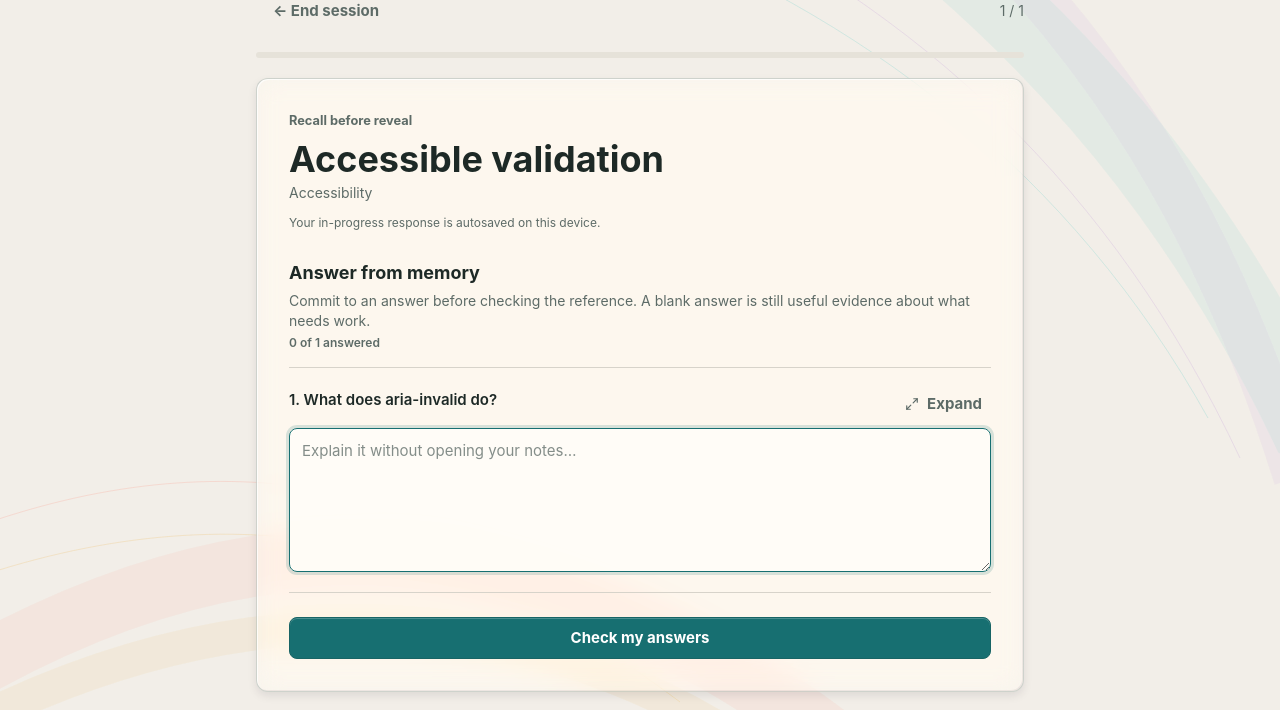
ReviewSession structured recall › keeps references hidden, then submits a versioned answer snapshot
Check: the text "It exposes invalid state but does not validate the input." is not shown
Check: the text "It tells a screen reader" is not shown
Type "It only communicates invalid state." into the text box labelled "1. What does aria-invalid do?" at x=640, y=500, box [289,428,991,572]
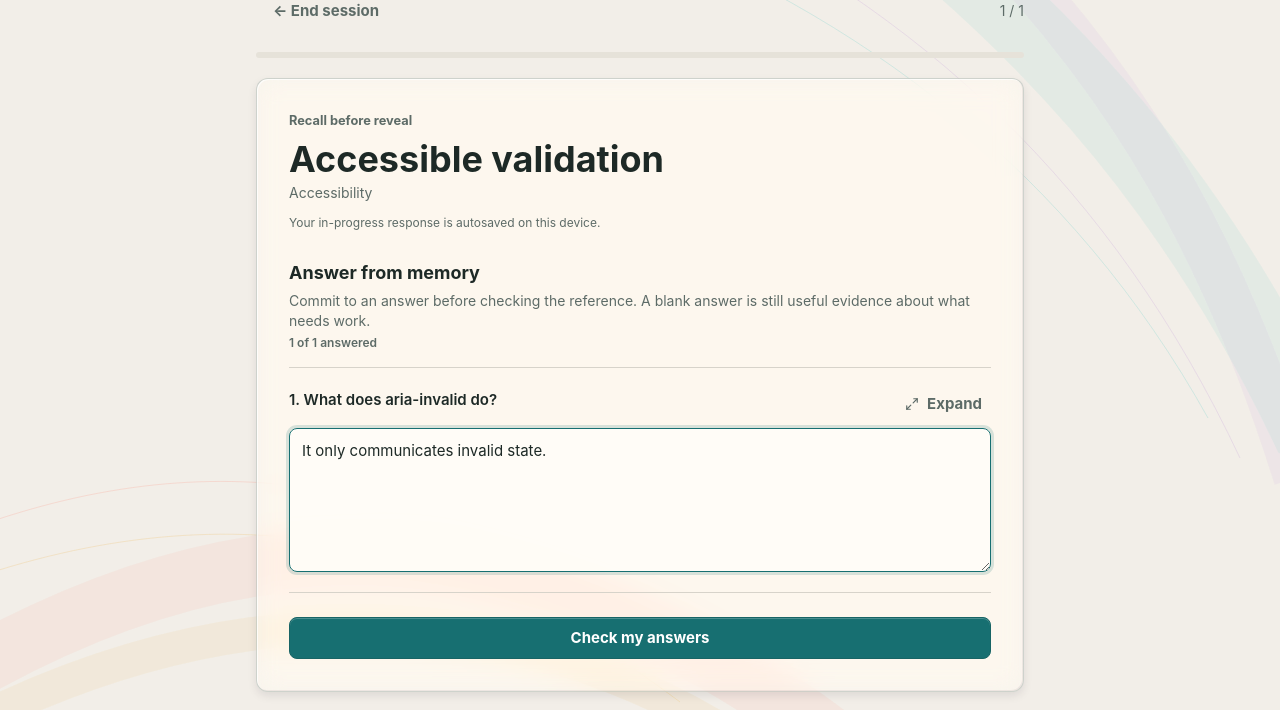
Click the button "Check my answers" at x=640, y=638, box [289,617,991,659]
(page scrolled)
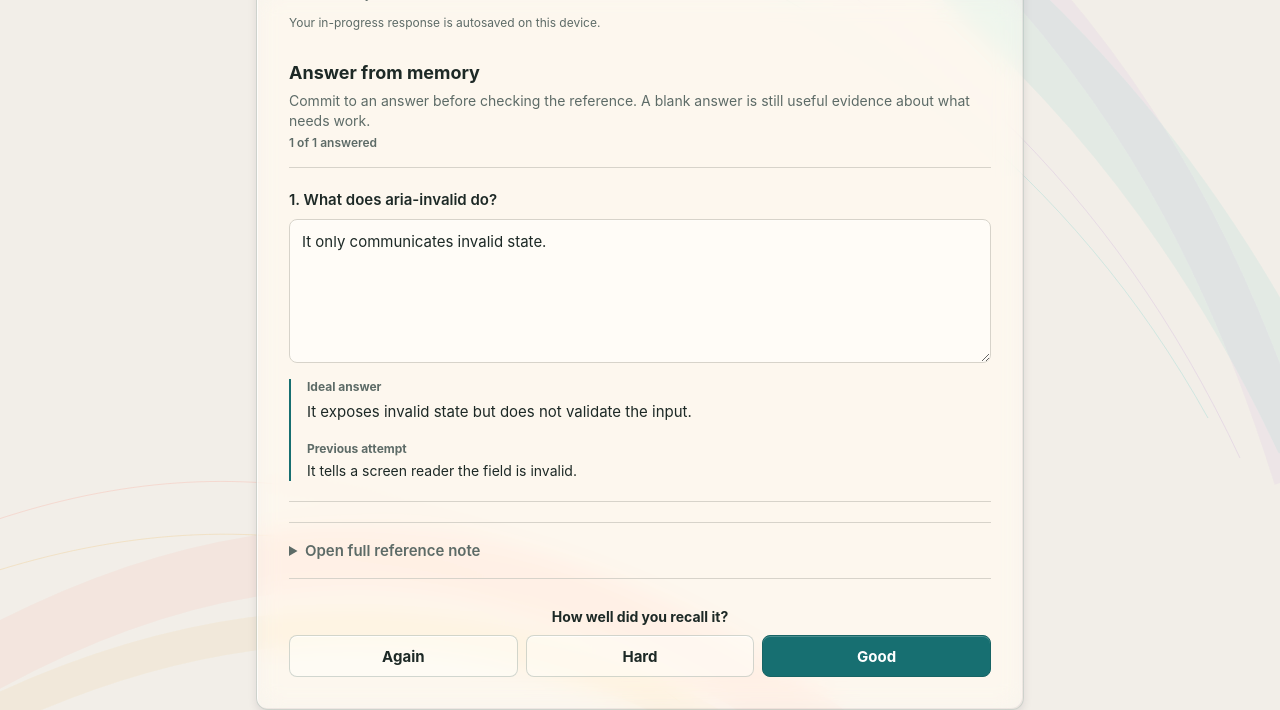
Check: the text "It exposes invalid state but does not validate the input." is shown, box [307,402,692,421]
Check: the text "It tells a screen reader the field is invalid." is shown, box [307,462,577,479]
Click the button "good" at x=877, y=656, box [762,635,991,677]
(page scrolled)
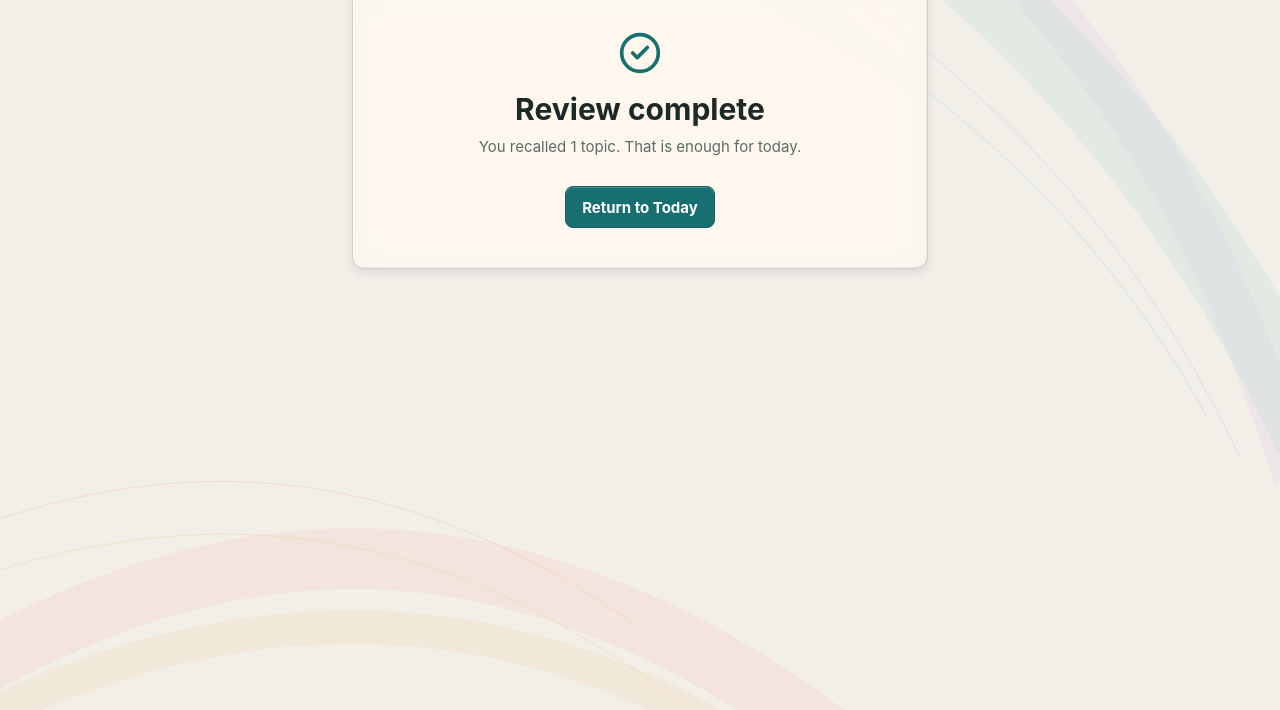
Check: the heading "Review complete" is shown, box [515,91,765,127]
